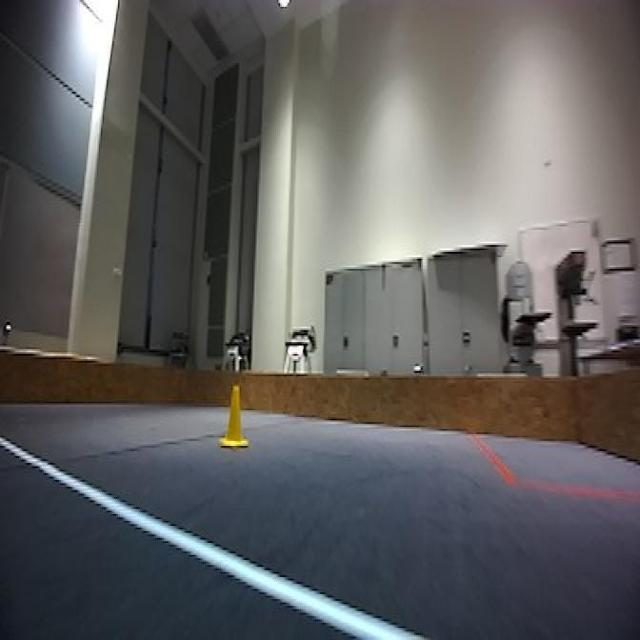frc_cone: (221, 384, 251, 452)
